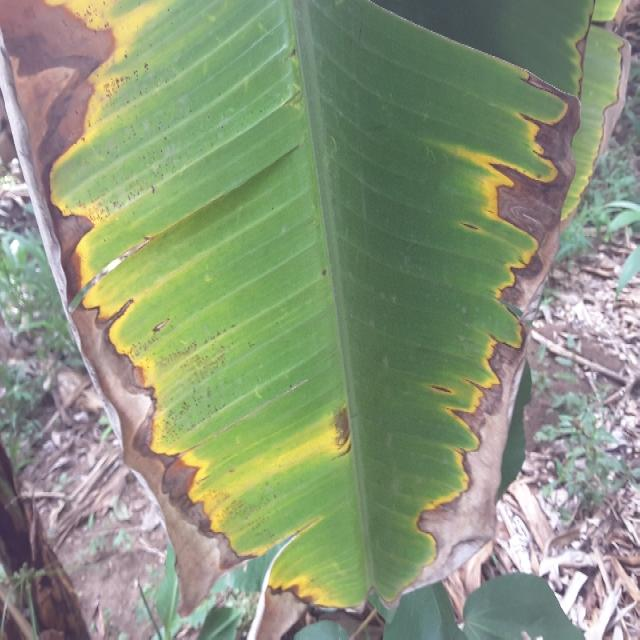Cordana: (0, 0, 354, 601), (410, 4, 639, 521)
